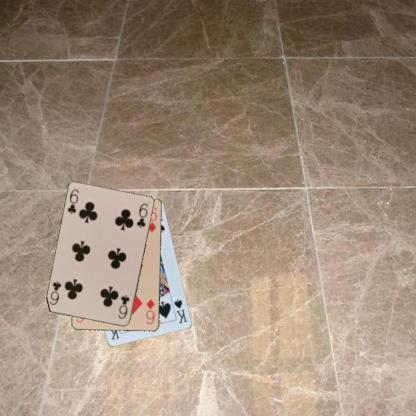6c: (65, 186, 80, 216), (116, 292, 132, 320)
6d: (143, 296, 156, 326)
Ks: (172, 296, 188, 325)
